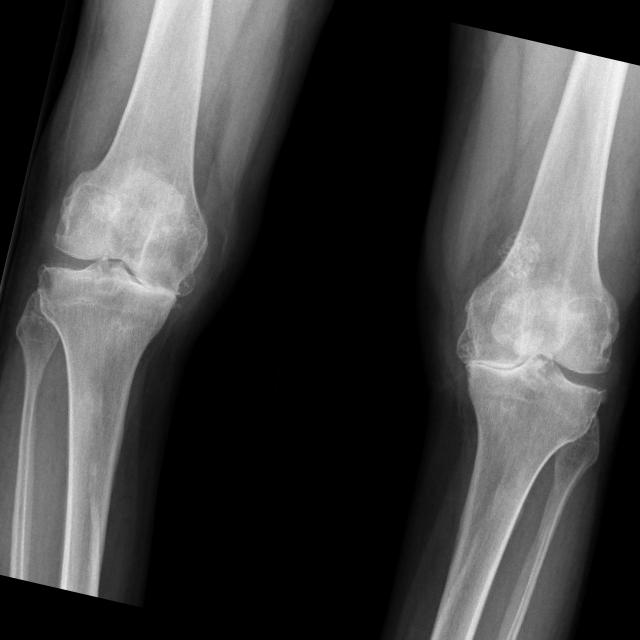Knee: (26, 188, 211, 352), (440, 286, 620, 439)
